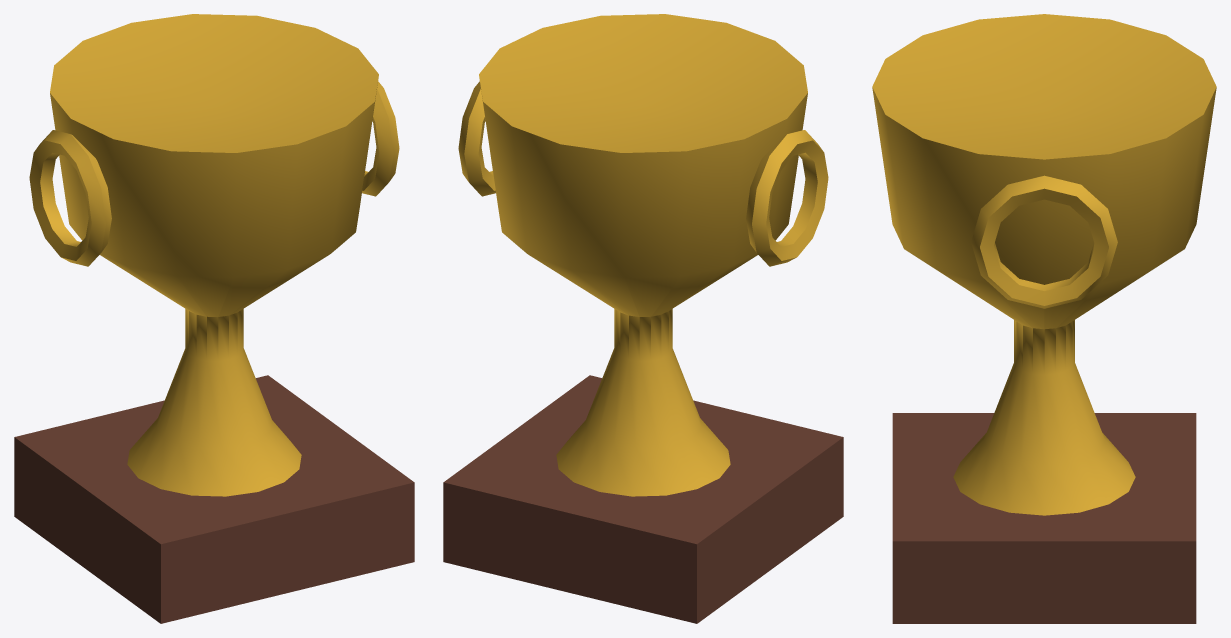
The model's file is ribbon_trophy.glb.
3 views of the same model, side by side, from view 1: azimuth 30°, elevation 25°; view 2: azimuth 150°, elevation 25°; view 3: azimuth 270°, elevation 25° (orthographic). The views are drawn at different scales.
Visible parts, largest first — view 1: decor-ribbon_trophy; view 2: decor-ribbon_trophy; view 3: decor-ribbon_trophy.
Part boxes in pixels (x1,y1,x2,y2): decor-ribbon_trophy: [14, 14, 414, 623]; decor-ribbon_trophy: [443, 14, 843, 623]; decor-ribbon_trophy: [872, 14, 1216, 623].
Size of the model in its own units: 0.7276 by 1.03 by 0.68.
